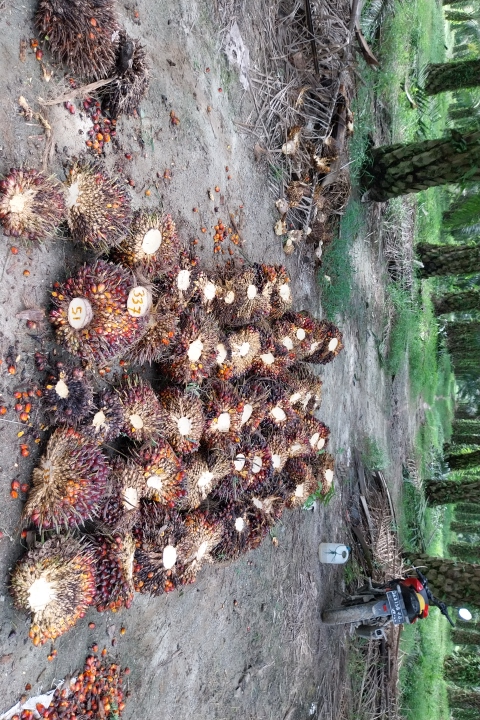janjang: (48, 254, 152, 366), (9, 533, 99, 649), (22, 423, 112, 530), (137, 506, 201, 603), (180, 316, 215, 388)
